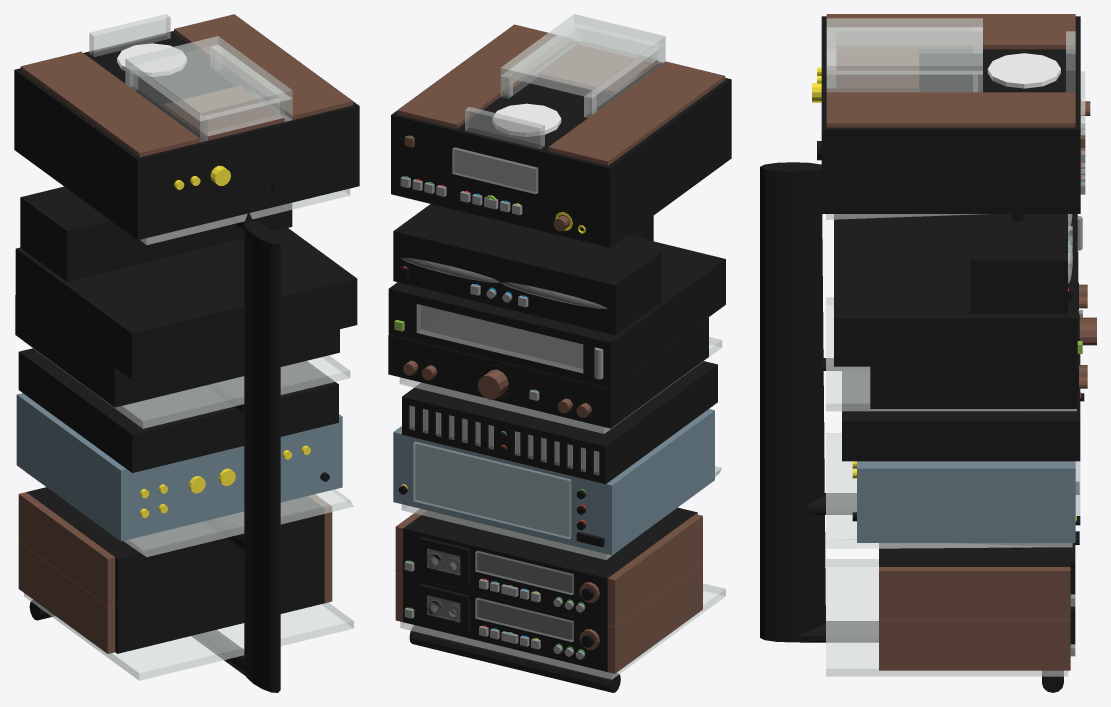
File: StereoRack.glb
3 renders of one model, left to right at view 1: azimuth 30°, elevation 25°; view 2: azimuth 150°, elevation 25°; view 3: azimuth 270°, elevation 25°, orthographic. The views are drawn at different scales.
Visible parts, largest first — view 1: group1702930992, group317343925, group700433372, group1255899739, group980221658, group836597707, group866329639, group631875667, group1030464552, group764488448, group1569816506, group872749775 (+2 smaller); view 2: group1702930992, group317343925, group700433372, group1255899739, group980221658, group866329639, group631875667, group1030464552, group845225193, group857262316, group764488448, group1569816506; view 3: group1702930992, group317343925, group836597707, group700433372, group1255899739, group980221658, group631875667, group866329639, group1030464552, group1569816506, group764488448, group483473338 (+2 smaller).
Boxes of the visible parts, x1,y1,x2,y2 form: group1702930992: [14, 14, 359, 239]; group317343925: [15, 186, 357, 379]; group700433372: [16, 393, 342, 541]; group1255899739: [18, 487, 332, 606]; group980221658: [18, 348, 338, 472]; group836597707: [244, 211, 280, 692]; group866329639: [18, 541, 332, 653]; group631875667: [15, 295, 339, 407]; group1030464552: [24, 593, 353, 680]; group764488448: [23, 341, 350, 428]; group1569816506: [26, 472, 353, 556]; group872749775: [140, 188, 350, 244]; group1702930992: [391, 14, 731, 247]; group317343925: [388, 204, 725, 388]; group700433372: [393, 409, 714, 555]; group1255899739: [395, 507, 702, 626]; group980221658: [402, 361, 717, 484]; group866329639: [395, 563, 702, 673]; group631875667: [388, 317, 708, 428]; group1030464552: [400, 583, 725, 679]; group845225193: [499, 651, 620, 692]; group857262316: [409, 625, 521, 669]; group764488448: [399, 337, 722, 433]; group1569816506: [401, 466, 721, 559]; group1702930992: [812, 14, 1090, 213]; group317343925: [834, 214, 1082, 366]; group836597707: [760, 162, 825, 642]; group700433372: [852, 461, 1080, 542]; group1255899739: [879, 482, 1079, 620]; group980221658: [842, 354, 1084, 461]; group631875667: [870, 252, 1096, 408]; group866329639: [879, 531, 1079, 670]; group1030464552: [826, 559, 1068, 676]; group1569816506: [826, 433, 1072, 548]; group764488448: [826, 297, 1076, 411]; group483473338: [799, 621, 878, 642].
Bounding box in the file's own units: 0.6215 × 1.5 × 0.7649.
